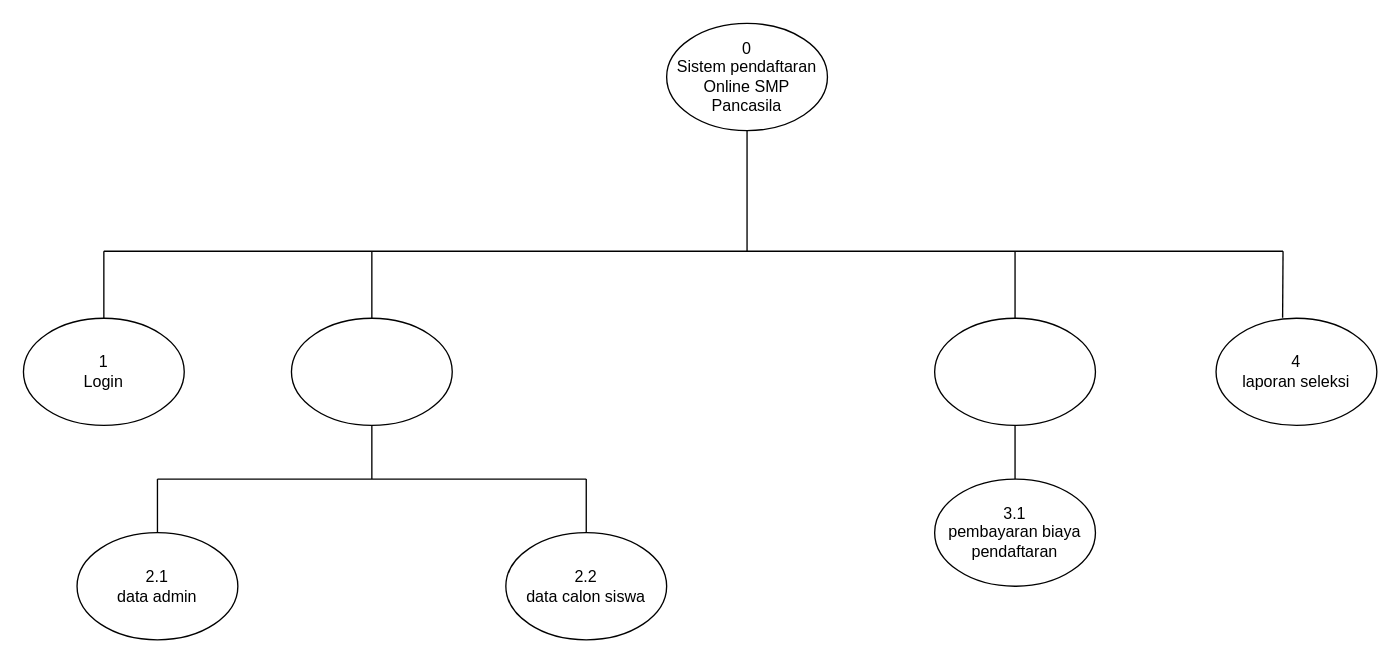
Some shapes in this 1400 by 663 pixel diagram are drawn without their labels. The shapes that lost their labels are listed below. From the top down, each one's centre as x and y in pixels, then its label:
At point 371,371: "2 sistem".
At point 1014,371: "3 proses transaksi".
